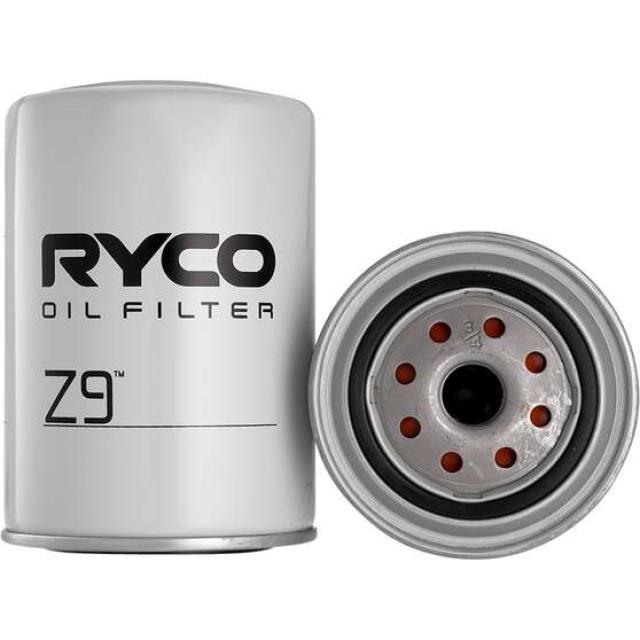oil_filter: (0, 70, 313, 563), (309, 221, 640, 564)
